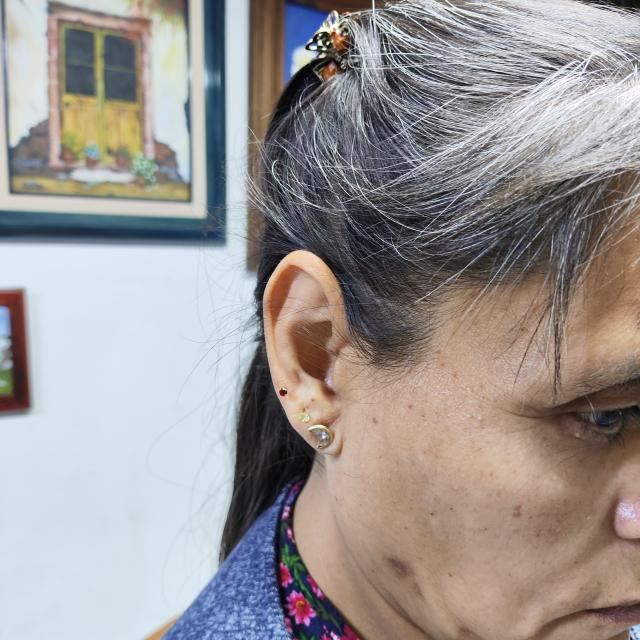ear: (262, 250, 350, 455)
